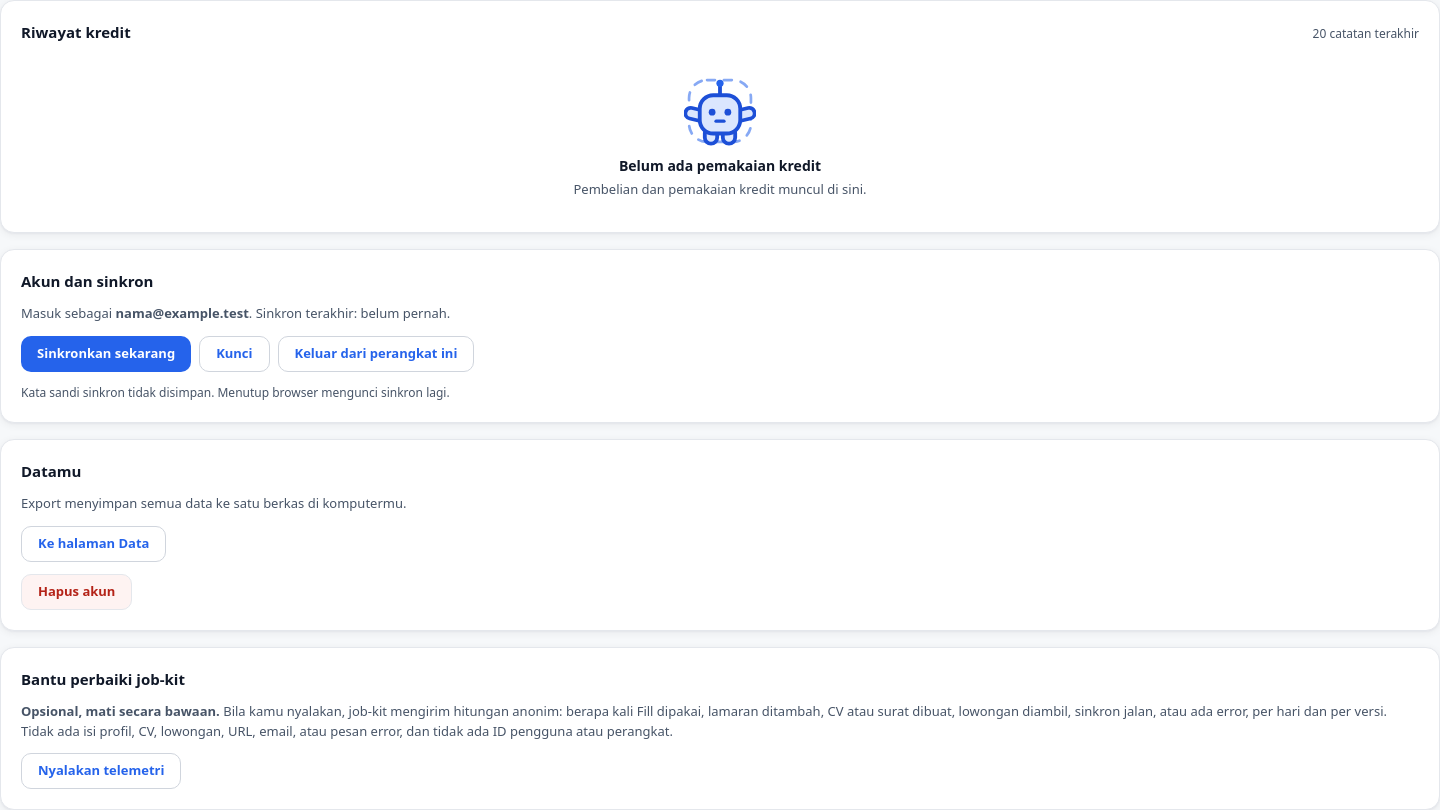
Test case: AccountPage: credit balance and history (mockup S13) › warns in the delete dialog that the 42 remaining credits are lost with the account
(page scrolled)
Expected: the text "akan hilang" is not shown
Click the button "Hapus akun": (77, 592) [21,574,132,610]
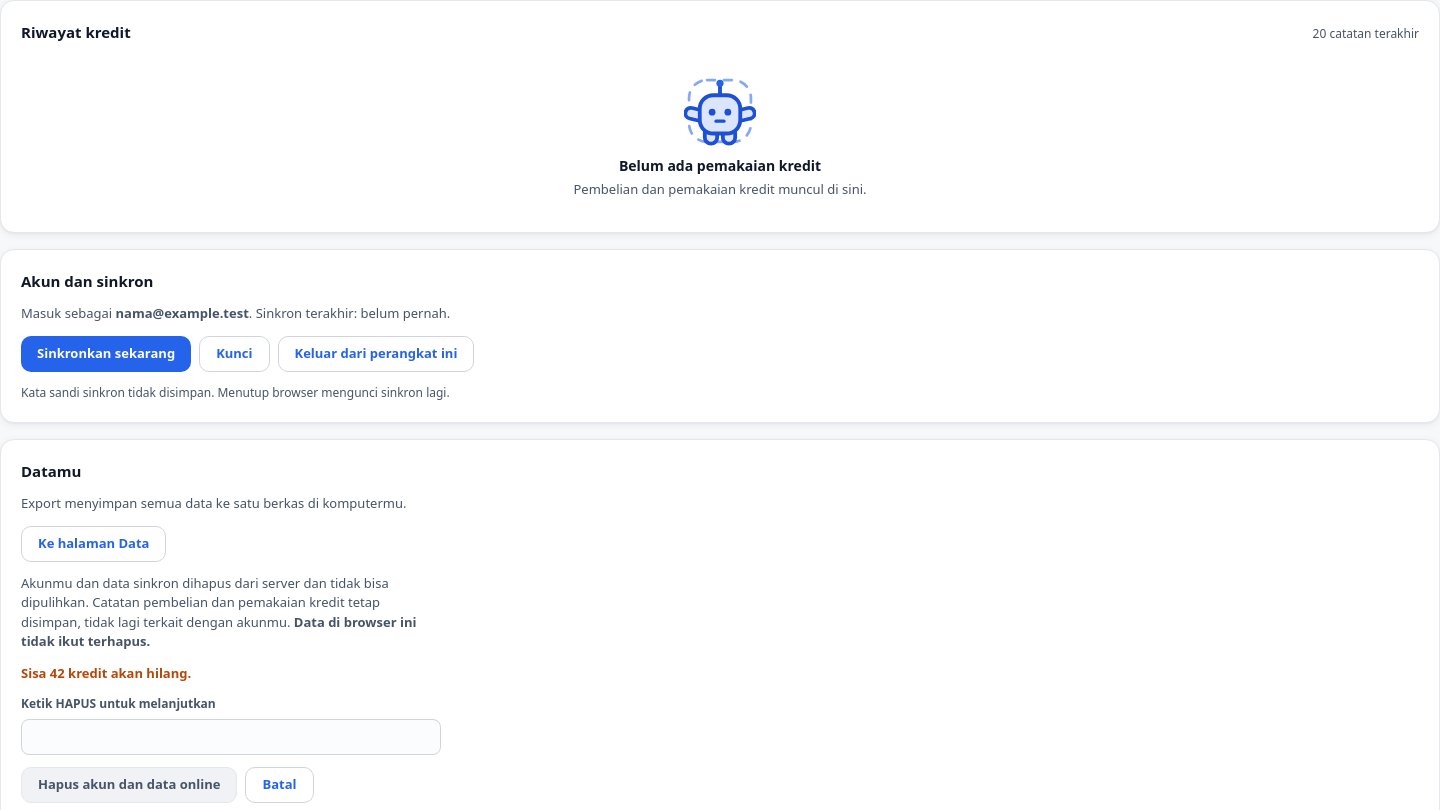
Expected: the text "Sisa 42 kredit akan hilang." is shown, [21,664,191,682]
